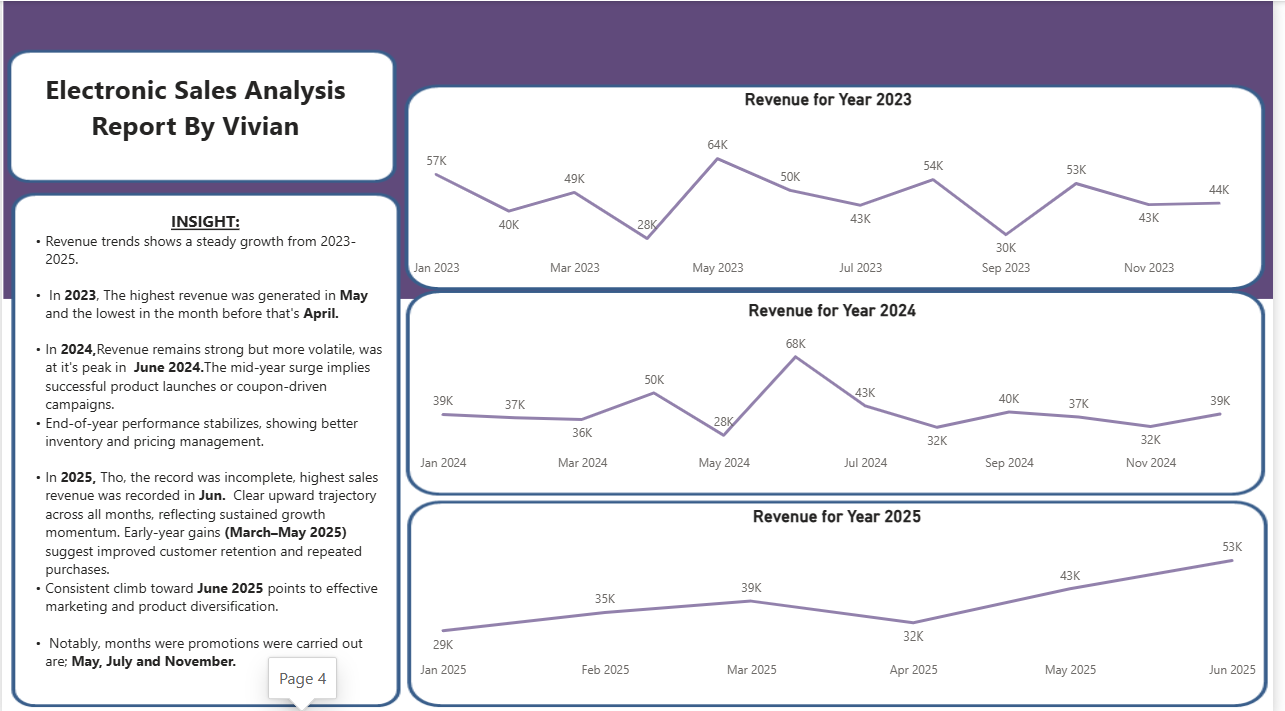

The dashboard page shown, as its layout file describes it:
{"tool":"powerbi","page":{"name":"Page 4","canvas":[1280,720],"ordinal":3},"visuals":[{"type":"textbox","box":[0,54.1,391.9,124.3],"z":0},{"type":"lineChart","title":" Revenue for Year 2023","fields":{"Category":["Table1.Date.Variation.Date Hierarchy.Year","Table1.Date.Variation.Date Hierarchy.Month"],"Y":["Table1.Total Revenue"]},"box":[408.6,88.6,848.6,197.1],"z":1000},{"type":"lineChart","title":"Revenue for Year 2024","fields":{"Category":["Table1.Date.Variation.Date Hierarchy.Year","Table1.Date.Variation.Date Hierarchy.Month"],"Y":["Table1.Total Revenue"]},"box":[414.3,301.4,842.9,181.4],"z":2000},{"type":"lineChart","title":"Revenue for Year 2025","fields":{"Category":["Table1.Date.Variation.Date Hierarchy.Year","Table1.Date.Variation.Date Hierarchy.Month"],"Y":["Table1.Total Revenue"]},"box":[414.3,510,852.9,181.4],"z":3000},{"type":"textbox","box":[27.1,64.3,335.7,104.3],"z":4000},{"type":"textbox","box":[17.1,205.7,374.3,495.7],"z":5000}]}

Visuals, with their boxes in screenshot pixels (x1, y1, x2, y2), scaled from the page's 1280x720 canvas onto the 1285x711 screenshot:
textbox: bbox=(0, 53, 393, 176)
" Revenue for Year 2023" lineChart: bbox=(410, 87, 1262, 282)
"Revenue for Year 2024" lineChart: bbox=(416, 298, 1262, 477)
"Revenue for Year 2025" lineChart: bbox=(416, 504, 1272, 683)
textbox: bbox=(27, 63, 364, 166)
textbox: bbox=(17, 203, 393, 693)
